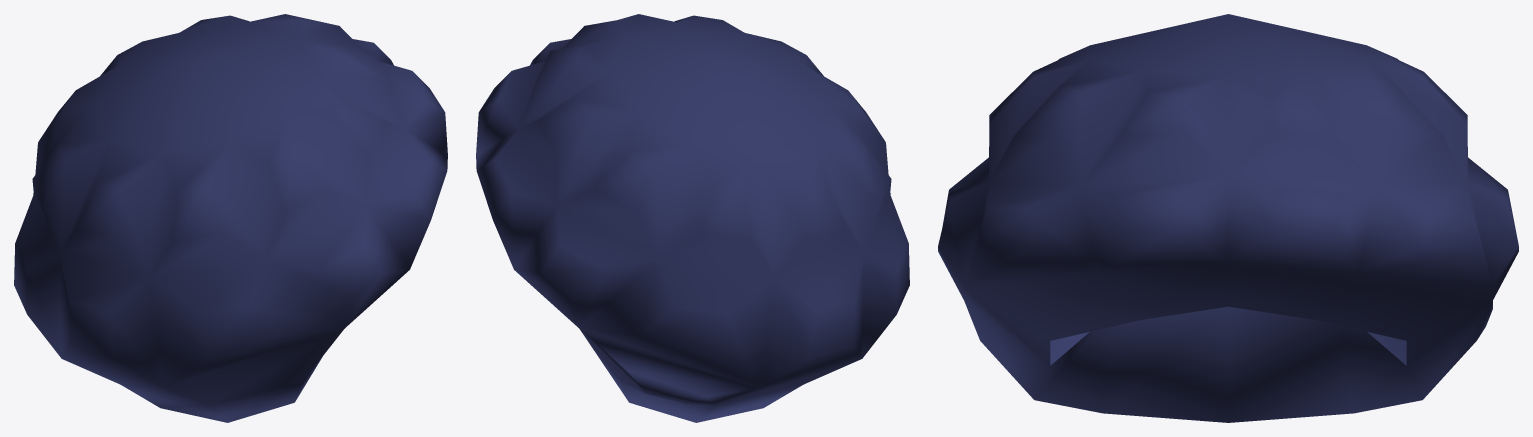
The model's file is TherapyAttachmentHead06.fbx.
3 renders of one model, left to right at view 1: azimuth 30°, elevation 25°; view 2: azimuth 150°, elevation 25°; view 3: azimuth 270°, elevation 25°, orthographic. The views are drawn at different scales.
Parts seen in each view (by area): view 1: pSphere5; view 2: pSphere5; view 3: pSphere5.
Boxes of the visible parts, bbox=[...] form: pSphere5: bbox=[14, 14, 447, 422]; pSphere5: bbox=[476, 14, 909, 422]; pSphere5: bbox=[938, 14, 1518, 422].
Size of the model in its own units: 149 by 132 by 160.
